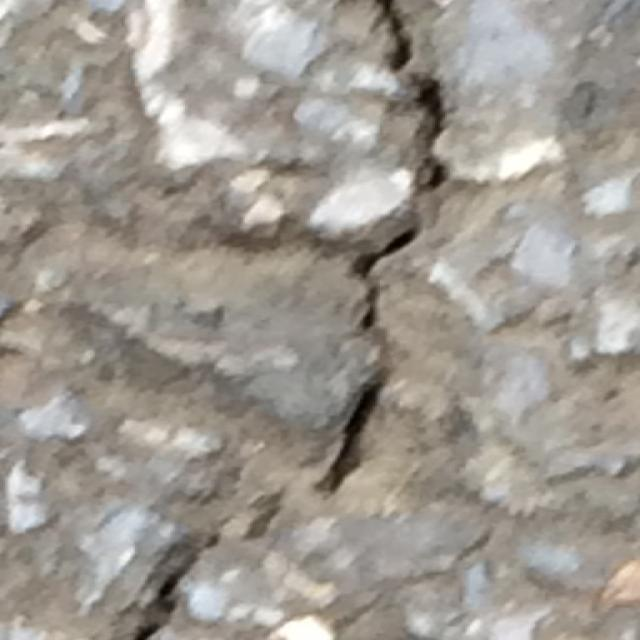crack: (119, 2, 454, 637)
